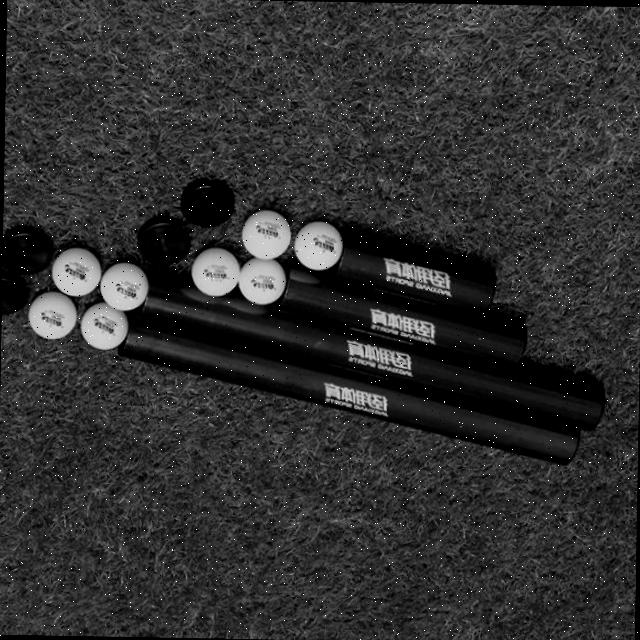ping-pong-ball: (236, 206, 292, 264), (290, 215, 346, 272), (45, 243, 101, 299), (77, 299, 131, 354), (187, 245, 242, 299), (24, 288, 77, 343), (234, 254, 287, 308), (96, 260, 152, 310)
